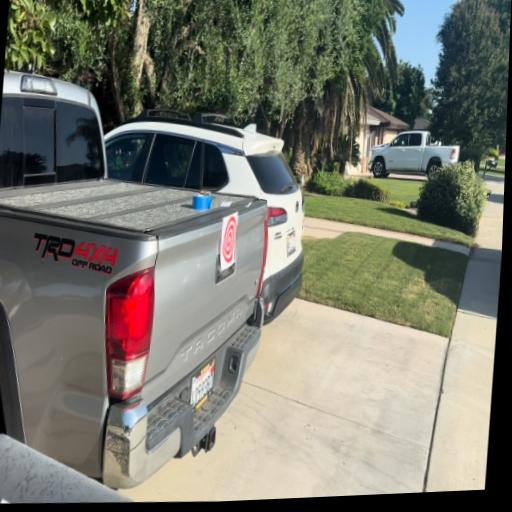bullseye: (221, 212, 237, 269)
